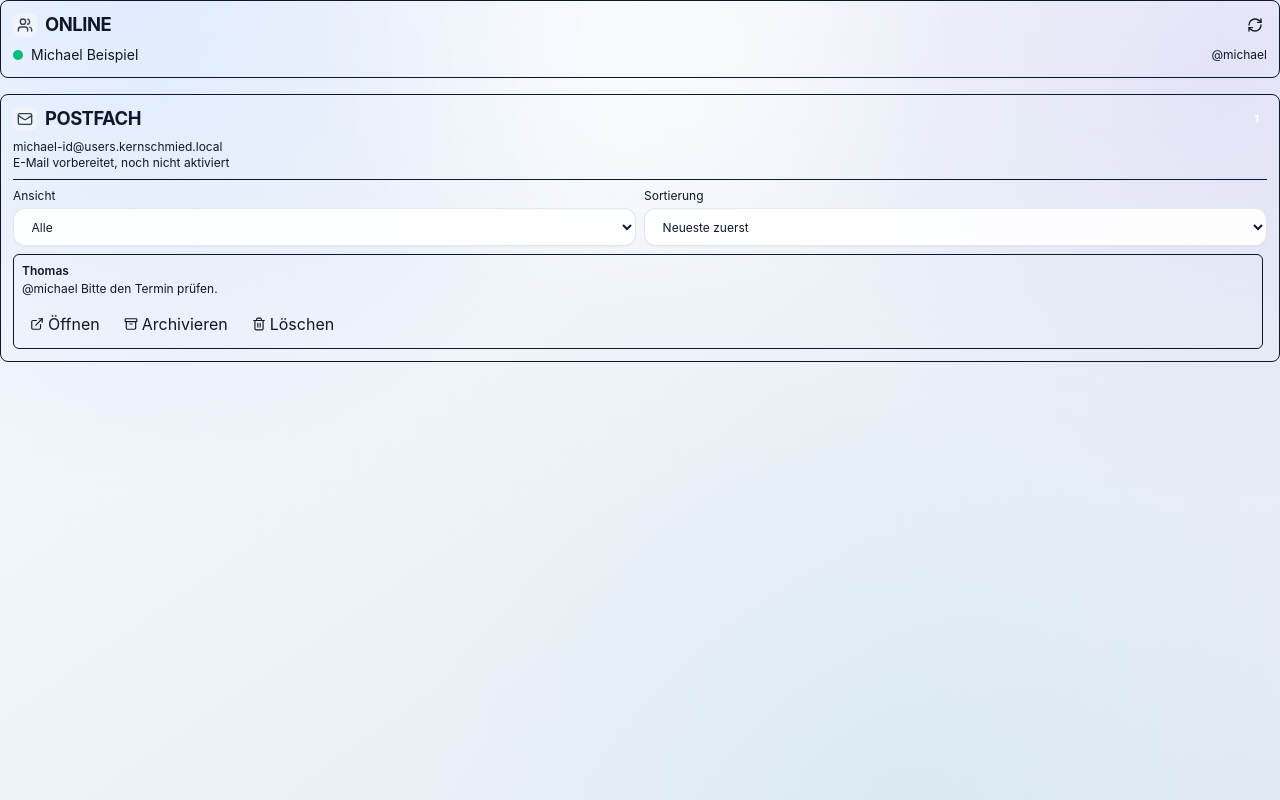
Test case: CollaborationContextPanel › shows online users and lets the recipient complete a request
Expected: the text "Michael Beispiel" is shown, left=31, top=45, right=138, bottom=65
Expected: the text "michael-id@users.kernschmied.local" is shown, left=13, top=139, right=222, bottom=154
Click the button "Archivieren": (176, 324) left=116, top=308, right=236, bottom=340
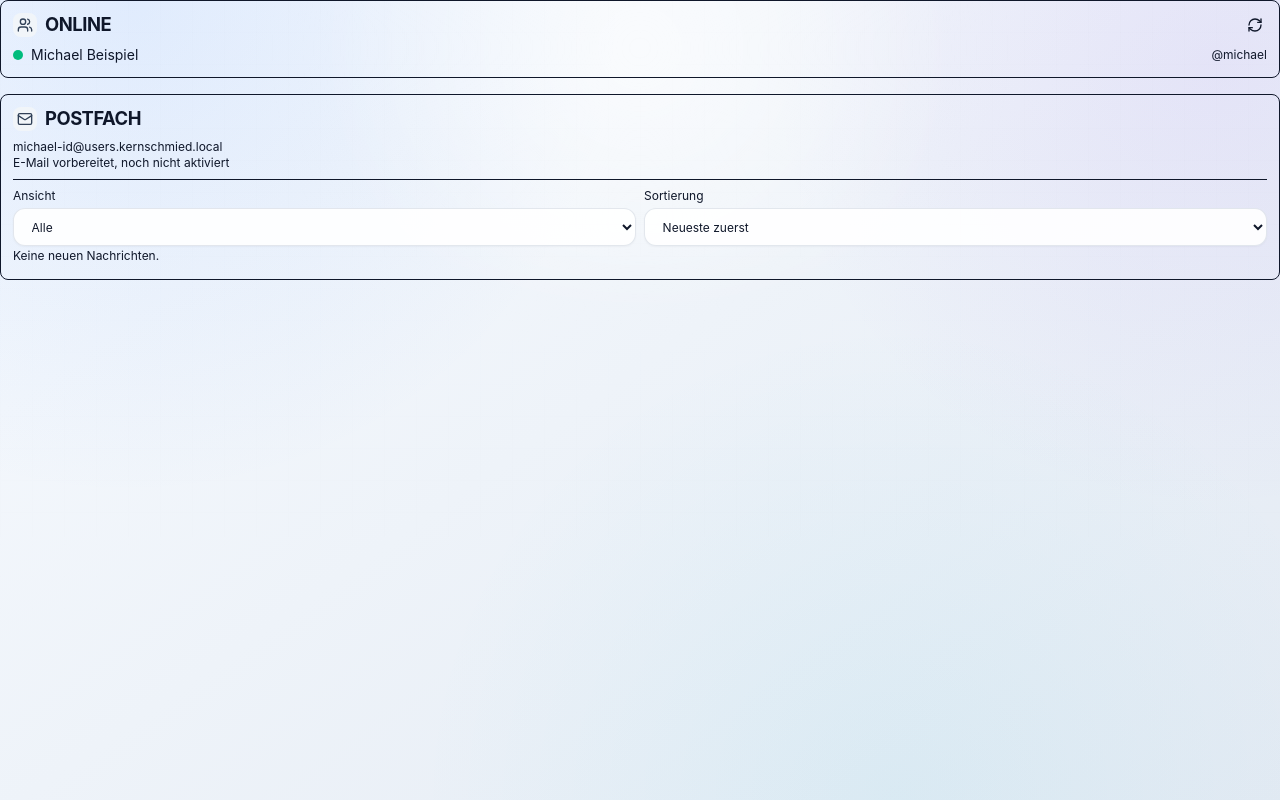
Expected: the text "@michael Bitte den Termin prüfen." is gone
